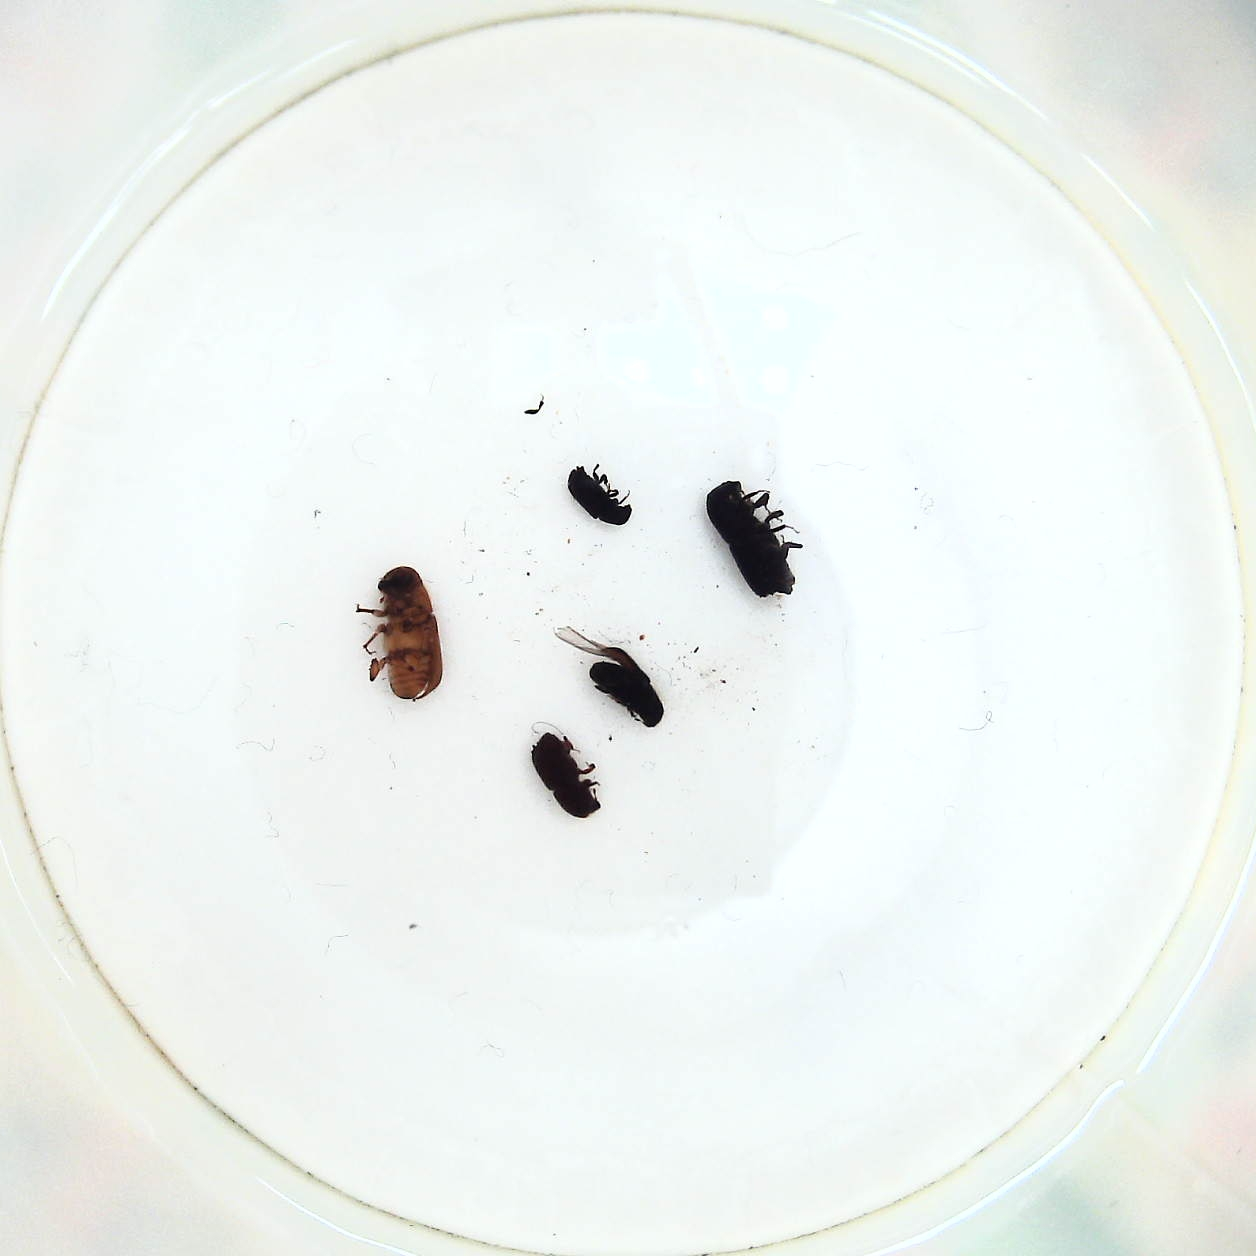Boerner: (698, 478, 806, 603)
Leconte: (355, 562, 445, 706)
armandi: (564, 625, 664, 729)
coleoptera: (559, 459, 640, 527)
linnaeus: (524, 729, 603, 827)
